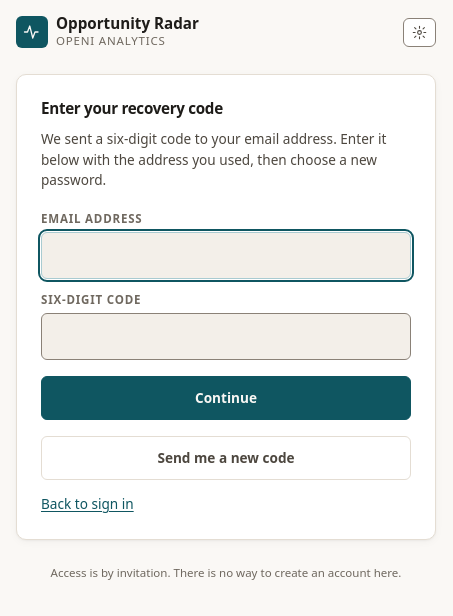
Test: the code page grants nothing without the right code › establishes a recovery session for the correct email and code
Expected: the heading "Enter your recovery code" is shown, left=41, top=98, right=223, bottom=118
Type "analyst@openi-analytics.invalid" into the field labelled "Email address". click: [226, 256]
box: left=41, top=232, right=411, bottom=279
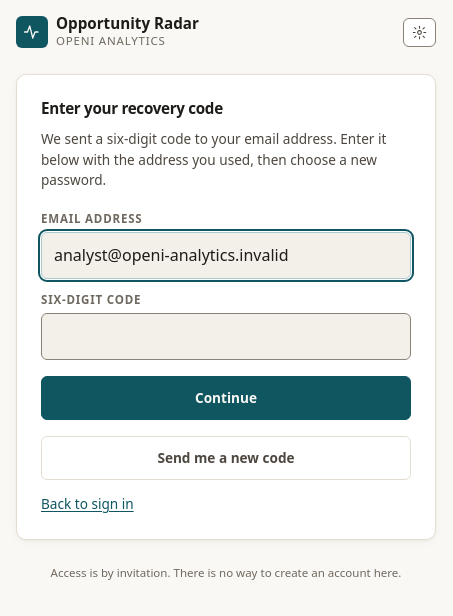
Type "424242" into the field labelled "Six-digit code". click: [226, 336]
box: left=41, top=313, right=411, bottom=360
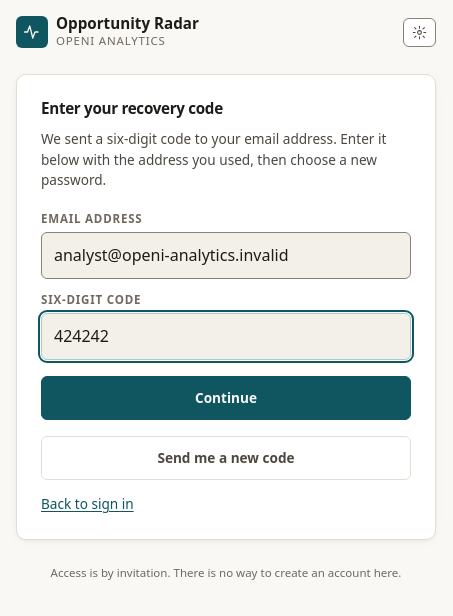
Click the button "Continue". click: [226, 398]
box: left=41, top=376, right=411, bottom=420
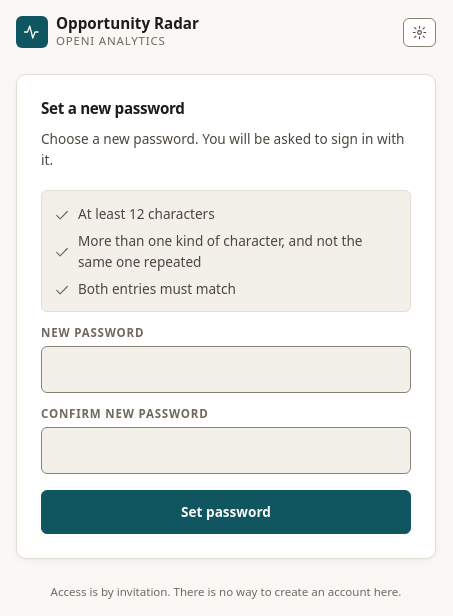
Expected: the heading "Set a new password" is shown, left=41, top=98, right=185, bottom=118
